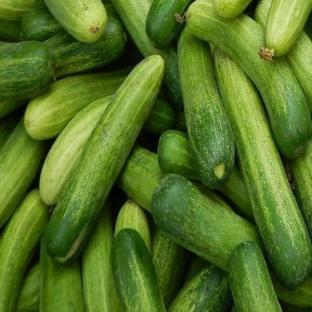Cucumber: (47, 56, 163, 262), (214, 49, 311, 286), (187, 0, 311, 157), (152, 174, 261, 270), (178, 27, 235, 189), (111, 0, 183, 110), (40, 96, 112, 205), (25, 69, 130, 139), (45, 6, 126, 79), (0, 190, 48, 311), (0, 118, 46, 227), (111, 229, 165, 311), (82, 201, 118, 311), (40, 228, 84, 311), (229, 242, 281, 311), (0, 42, 53, 100), (117, 146, 164, 211), (152, 228, 190, 308), (168, 264, 231, 311), (266, 0, 311, 56), (285, 31, 311, 111), (158, 130, 199, 179), (289, 145, 311, 236), (115, 200, 151, 253), (219, 166, 253, 221), (270, 272, 311, 308), (21, 7, 63, 41), (16, 262, 41, 311), (143, 97, 175, 134), (185, 254, 213, 283), (0, 114, 20, 149), (0, 99, 28, 117), (0, 19, 20, 42), (280, 302, 310, 311), (174, 111, 186, 131)
